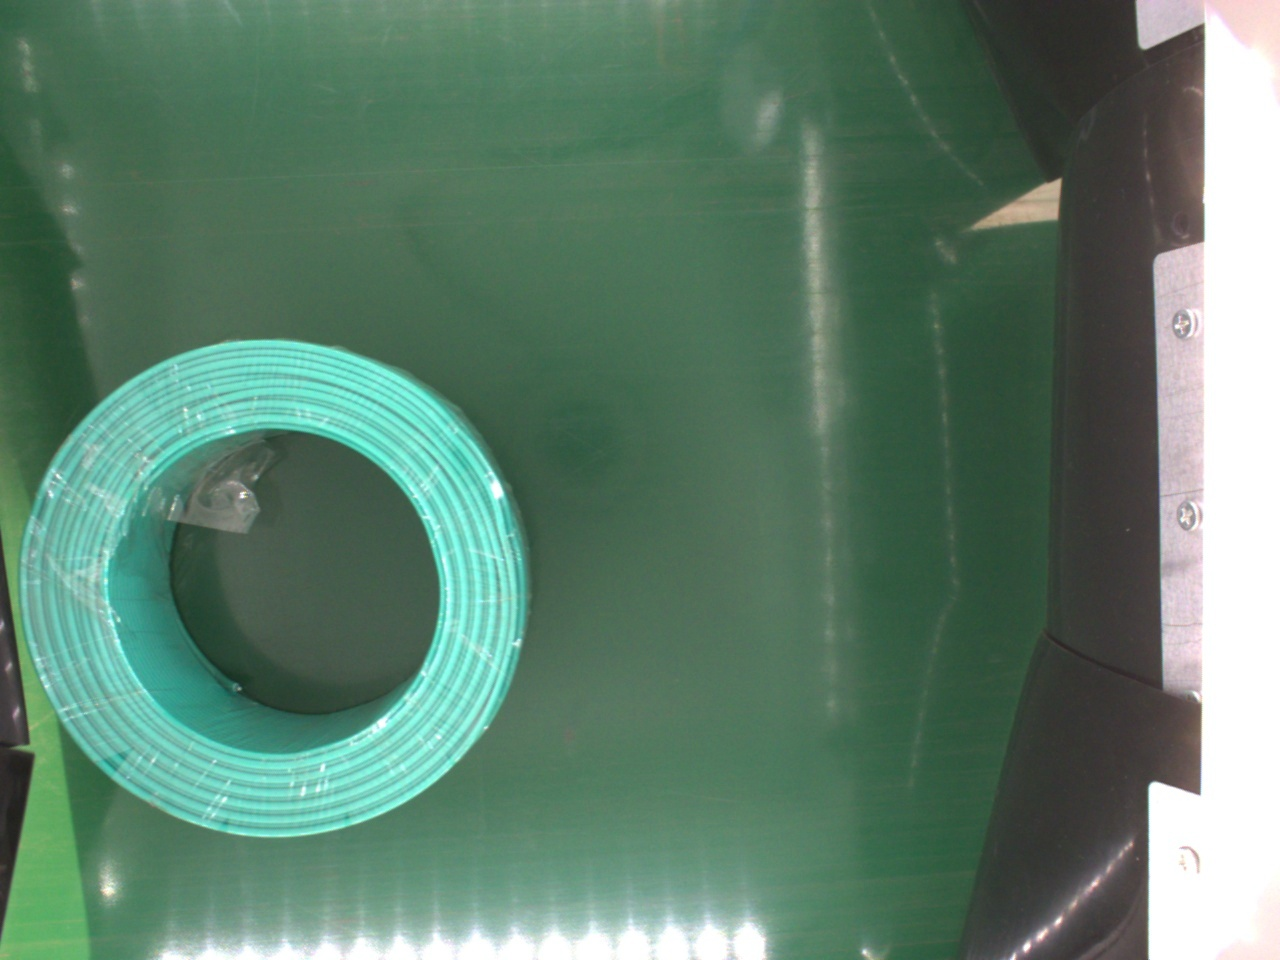green: (21, 335, 532, 842)
